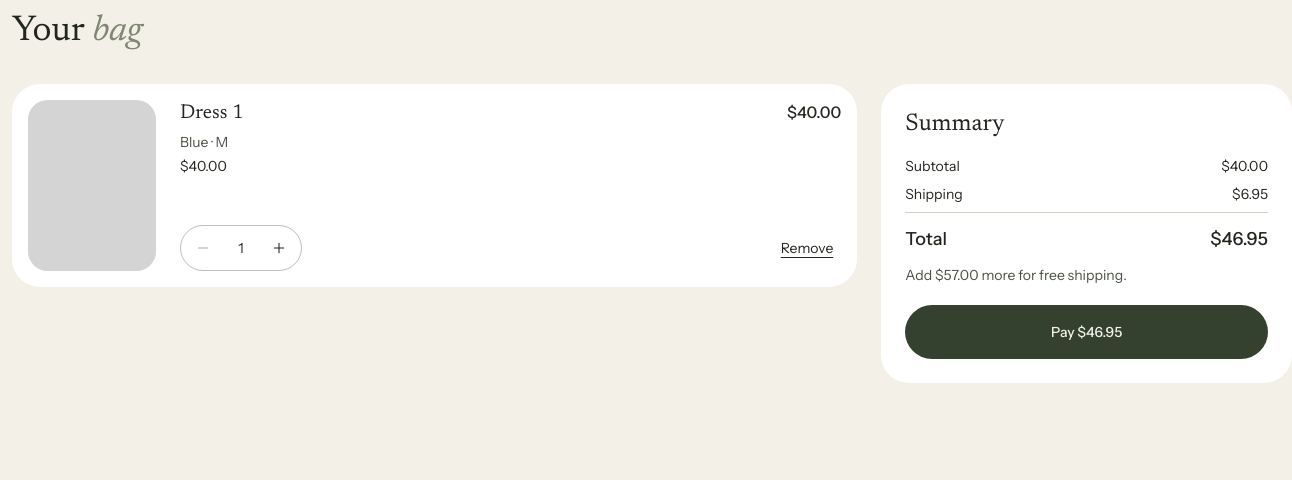
CartPage › Pay › names the lines that changed when the stock ran out, and shows the bag again
Click the button "Pay $46.95" at [1087, 332], box [905,305,1268,359]
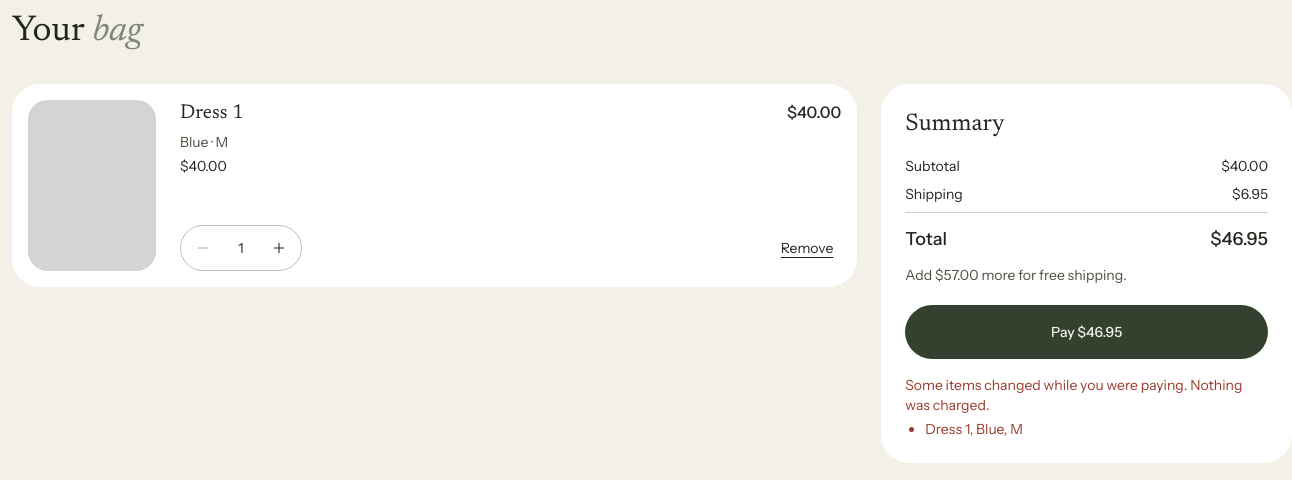
Result: the text "Some items changed while you were paying. Nothing was charged." shows "Dress 1, Blue, M" at [925,420,1023,438]
